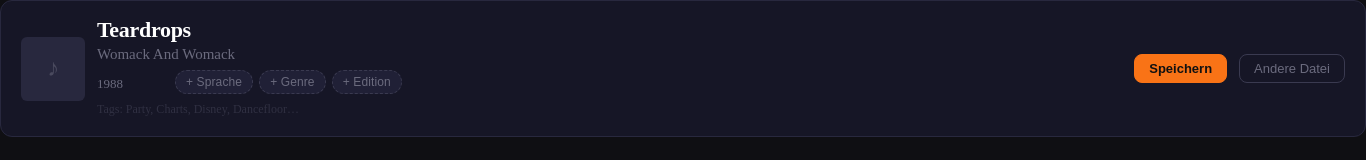
Test case: HeaderEditor › tooltips on tag editors (#10) › shows Language tooltip on hover over add button
Hover over the element "+ Sprache" at point(214, 82), box left=175, top=70, right=253, bottom=94
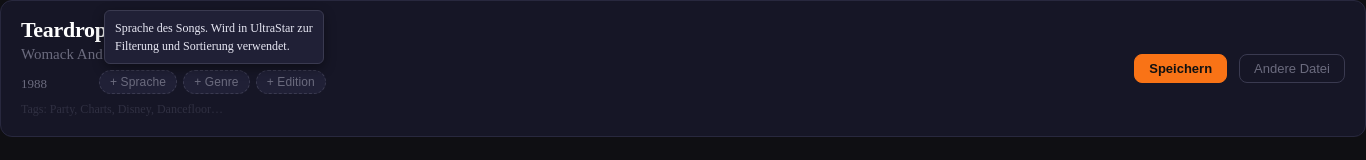
Result: the tooltip is shown at left=104, top=10, right=324, bottom=64
